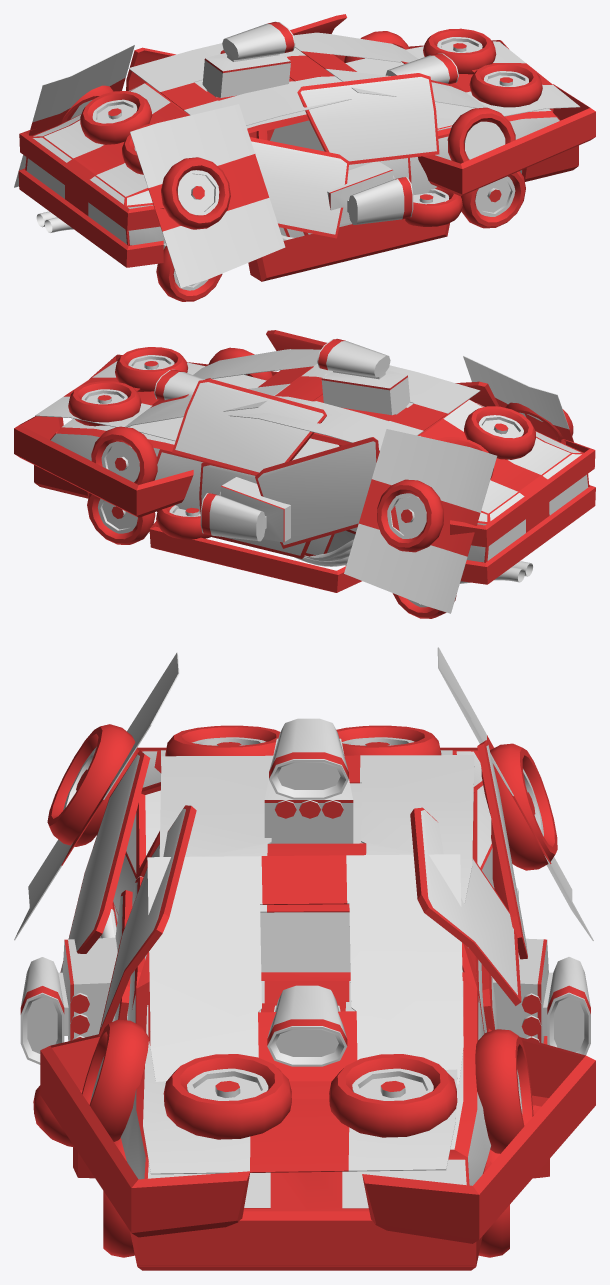
File: car.fbx
The picture shows the model from 3 angles, top to bottom: view 1: azimuth 30°, elevation 25°; view 2: azimuth 150°, elevation 25°; view 3: azimuth 270°, elevation 25°; orthographic projection. The views are drawn at different scales.
Parts seen in each view (by area): view 1: BackHood.001, RightDoor.005, BezierCurve.008, Hood.003, RightDoor.006, FrontBumper.003, BackBumper.003, Engine.004, Hood.002, BackRTire.001, Engine.002, BackHood (+20 smaller); view 2: BackHood.002, RightDoor.002, RightDoor.003, BezierCurve.008, Hood.003, FrontBumper.002, Engine.004, BackBumper.002, Engine.003, Hood.002, BackLTire.001, BackHood (+20 smaller); view 3: Hood.002, BezierCurve.008, Hood.003, Hood.001, FrontBumper.002, FrontBumper, FrontBumper.003, Engine.004, BackRTire.004, BackRTire.005, RightDoor.002, Engine.002 (+19 smaller).
Boxes of the visible parts, x1=… form: BackHood.001: x1=130, y1=104, x2=285, y2=287; RightDoor.005: x1=297, y1=73, x2=439, y2=164; BezierCurve.008: x1=25, y1=78, x2=560, y2=249; Hood.003: x1=128, y1=43, x2=351, y2=125; RightDoor.006: x1=250, y1=137, x2=349, y2=238; FrontBumper.003: x1=418, y1=84, x2=595, y2=196; BackBumper.003: x1=248, y1=201, x2=449, y2=281; Engine.004: x1=202, y1=21, x2=295, y2=97; Hood.002: x1=290, y1=29, x2=486, y2=108; BackRTire.001: x1=161, y1=157, x2=230, y2=229; Engine.002: x1=327, y1=161, x2=413, y2=224; BackHood: x1=44, y1=83, x2=188, y2=196; BackHood.002: x1=344, y1=429, x2=497, y2=613; RightDoor.002: x1=172, y1=379, x2=326, y2=475; RightDoor.003: x1=255, y1=437, x2=379, y2=548; BezierCurve.008: x1=50, y1=394, x2=589, y2=566; Hood.003: x1=229, y1=364, x2=480, y2=450; FrontBumper.002: x1=14, y1=416, x2=193, y2=517; Engine.004: x1=317, y1=338, x2=410, y2=415; BackBumper.002: x1=149, y1=521, x2=361, y2=592; Engine.003: x1=200, y1=477, x2=290, y2=542; Hood.002: x1=125, y1=349, x2=320, y2=427; BackLTire.001: x1=377, y1=479, x2=443, y2=552; BackHood: x1=420, y1=399, x2=570, y2=513; Hood.002: x1=147, y1=854, x2=463, y2=1084; BezierCurve.008: x1=99, y1=750, x2=518, y2=1211; Hood.003: x1=159, y1=755, x2=474, y2=912; Hood.001: x1=143, y1=1002, x2=457, y2=1174; FrontBumper.002: x1=362, y1=1028, x2=595, y2=1243; FrontBumper: x1=130, y1=1161, x2=491, y2=1265; FrontBumper.003: x1=40, y1=1034, x2=250, y2=1237; Engine.004: x1=264, y1=718, x2=353, y2=843; BackRTire.004: x1=163, y1=1054, x2=291, y2=1139; BackRTire.005: x1=329, y1=1054, x2=457, y2=1137; RightDoor.002: x1=410, y1=807, x2=521, y2=1005; Engine.002: x1=20, y1=937, x2=117, y2=1064.
Bounding box in the file's own units: 901 × 358 × 529.
